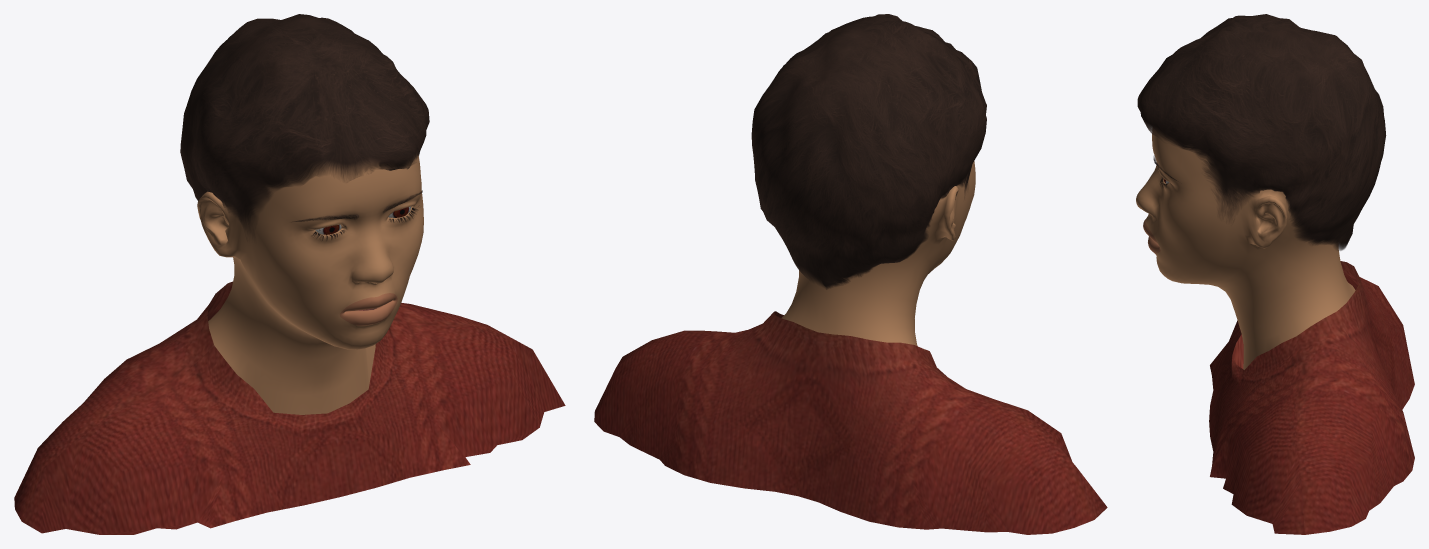
File: neutral-05.glb
3 renders of one model, left to right at view 1: azimuth 30°, elevation 25°; view 2: azimuth 150°, elevation 25°; view 3: azimuth 270°, elevation 25°, orthographic. The views are drawn at different scales.
Parts seen in each view (by area): view 1: mpfb-face.mindfront_knitted_sweater_02, mpfb-face, mpfb-face.short02; view 2: mpfb-face.mindfront_knitted_sweater_02, mpfb-face.short02, mpfb-face; view 3: mpfb-face.mindfront_knitted_sweater_02, mpfb-face.short02, mpfb-face.
Boxes of the visible parts, x1,y1,x2,y2 form: mpfb-face.mindfront_knitted_sweater_02: (14,281,565,534); mpfb-face: (197,154,423,414); mpfb-face.short02: (180,14,429,237); mpfb-face.mindfront_knitted_sweater_02: (594,311,1107,534); mpfb-face.short02: (751,14,986,289); mpfb-face: (781,161,975,345); mpfb-face.mindfront_knitted_sweater_02: (1209,261,1414,534); mpfb-face.short02: (1137,14,1386,250); mpfb-face: (1136,128,1355,369).
Size of the model in its own units: 0.4269 by 0.3443 by 0.2211.
Materials: 9 (7 with a texture image).
